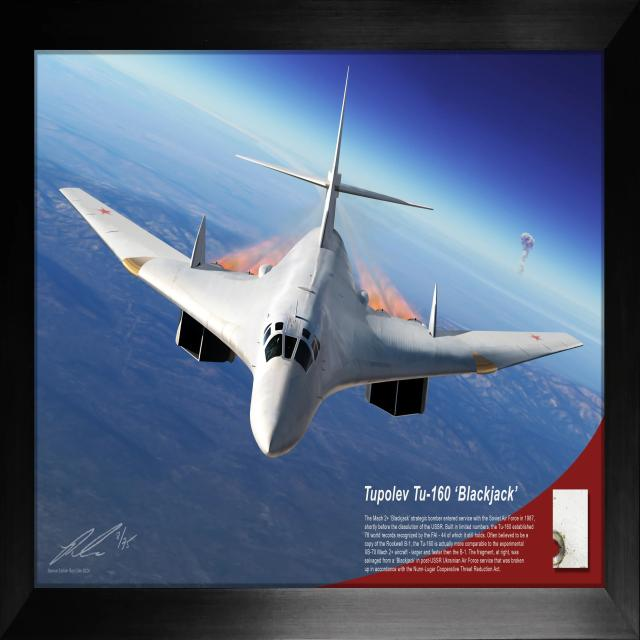Tu160: (42, 46, 602, 485)
